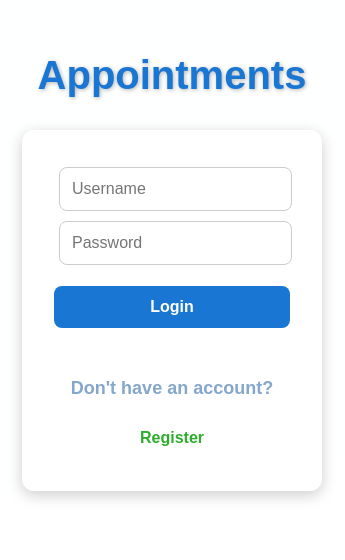
Scenario: Login Component › handles network errors gracefully
The image size is (345, 560).
Type "testuser" into the field with placeholder "Username" at (176, 189), box [59,167,292,211]
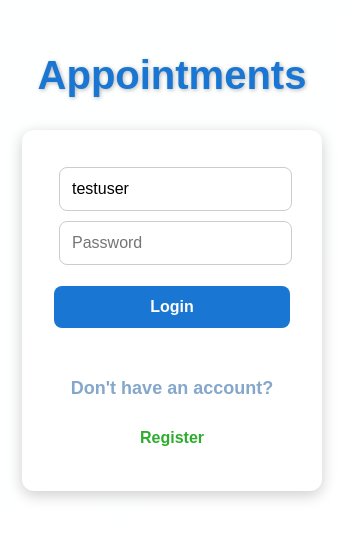
Type "testpass" into the password field with placeholder "Password" at (176, 243), box [59,221,292,265]
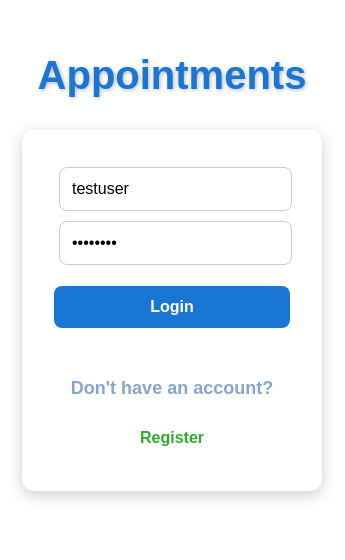
Click the button "Login" at (172, 307), box [54,286,290,328]
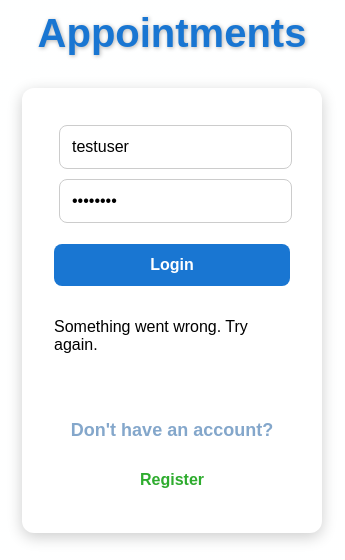
Expected: the text "Something went wrong. Try again." is shown, [54,318,248,353]
